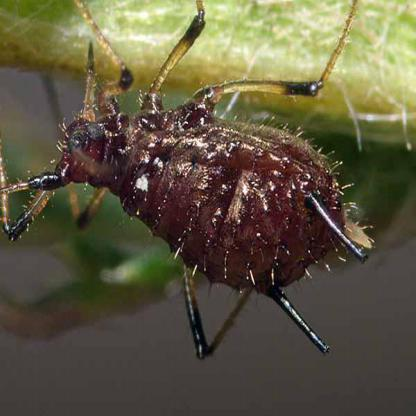uroleucon compositae: (2, 14, 367, 358)
